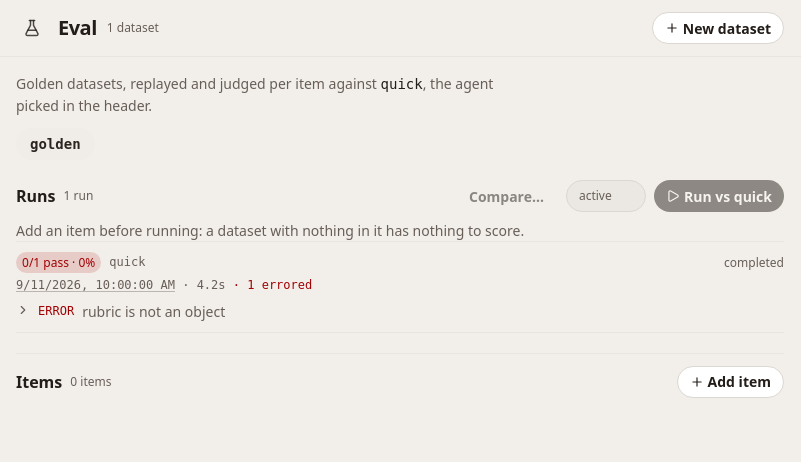
Test: a run says what it did › draws an item that errored as its own state, with the error
Step 1. Click the button "error rubric is not an object" → (56, 311), box x1=16 y1=301 x2=784 y2=322
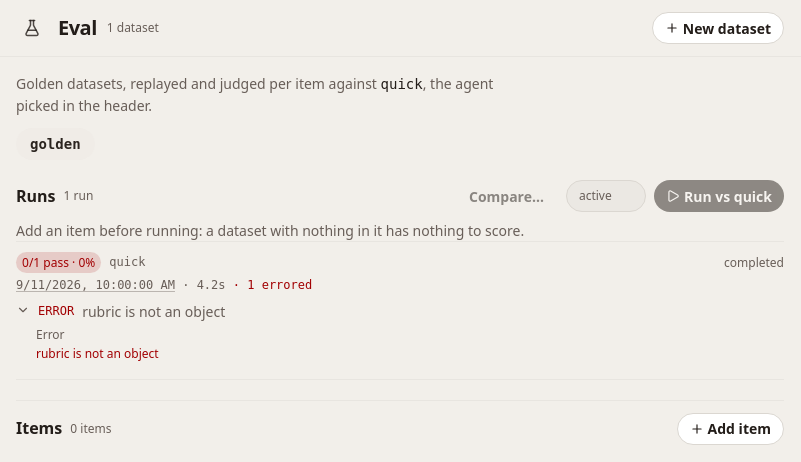
Result: the text "Error" is shown at x1=36 y1=326 x2=65 y2=343
